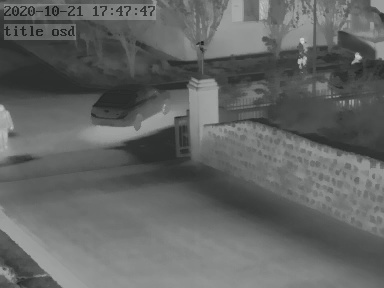person: (1, 105, 16, 152)
vehicle: (87, 82, 176, 132)
